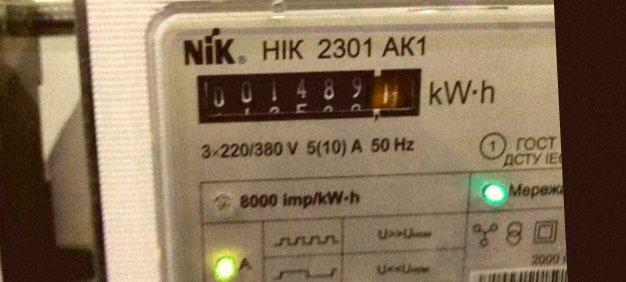0: (237, 78, 254, 103), (210, 83, 226, 109)
1: (266, 75, 281, 105), (378, 76, 391, 106)
4: (293, 75, 310, 102)
8: (319, 73, 337, 101)
9: (348, 74, 364, 100)
screen: (180, 52, 440, 141)
